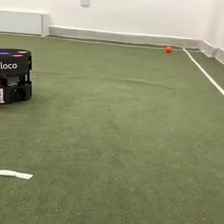ball: (164, 43, 173, 53)
goal: (1, 9, 52, 38)
robot: (1, 47, 35, 107)
